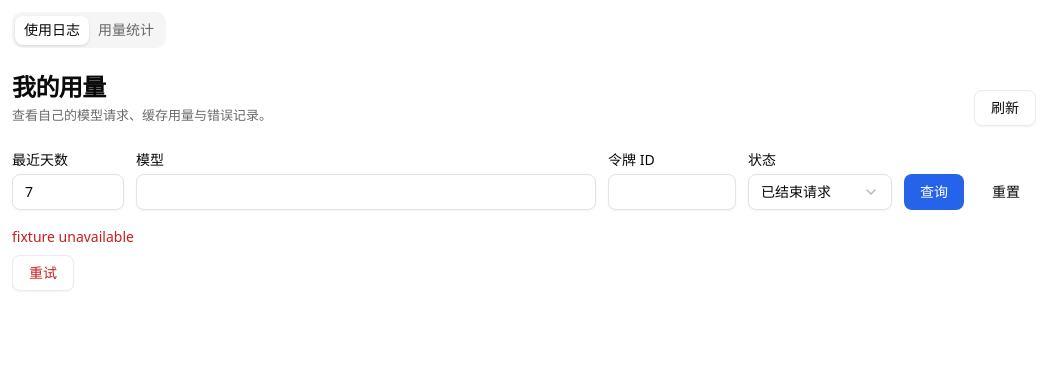
Test case: hides export for missing permission and recovers from load failure
Check: the message shows "fixture unavailable", box [12,226,134,246]
Click the button "重试" at point(43, 272), box [12,254,74,290]
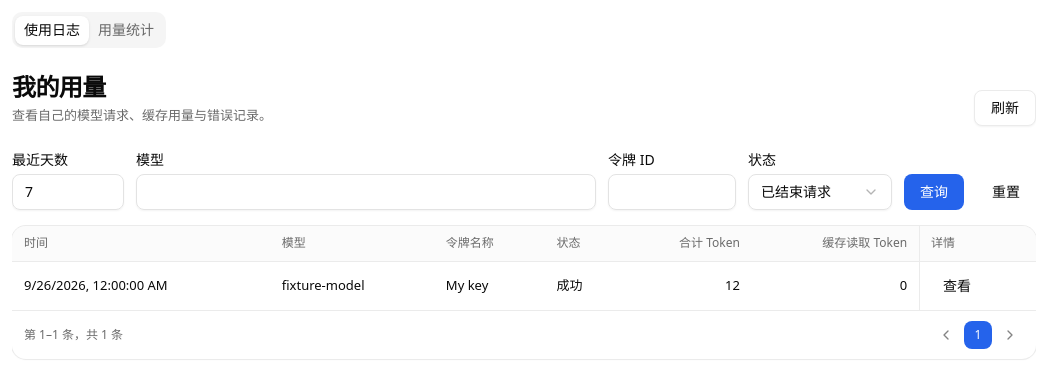
Check: the text "fixture-model" is shown, box [270,262,434,310]
